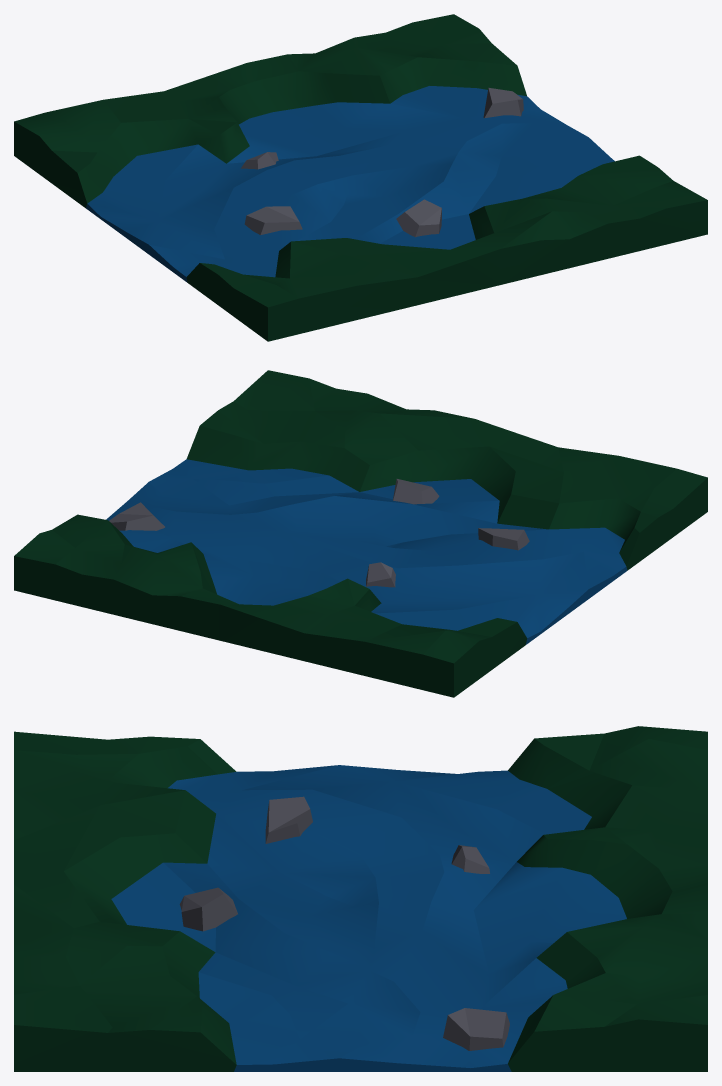
Rendered from Water_River_H.fbx.
The picture shows the model from 3 angles, top to bottom: view 1: azimuth 30°, elevation 25°; view 2: azimuth 150°, elevation 25°; view 3: azimuth 270°, elevation 25°; orthographic projection. The views are drawn at different scales.
Visible parts, largest first — view 1: Water_River_H; view 2: Water_River_H; view 3: Water_River_H.
Part boxes in pixels (left/top/right/bottom): Water_River_H: left=14, top=14, right=707, bottom=341; Water_River_H: left=14, top=370, right=707, bottom=697; Water_River_H: left=14, top=726, right=707, bottom=1071.
Size of the model in its own units: 147 by 15.12 by 147.
